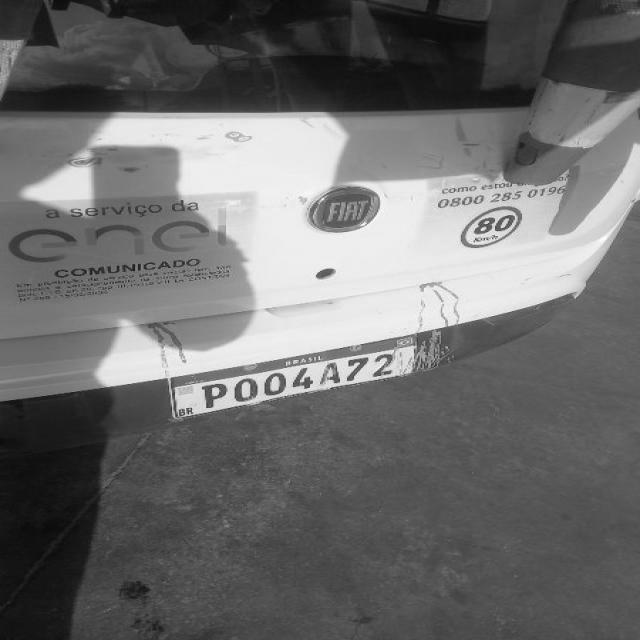placa_mercosul: (170, 333, 418, 421)
